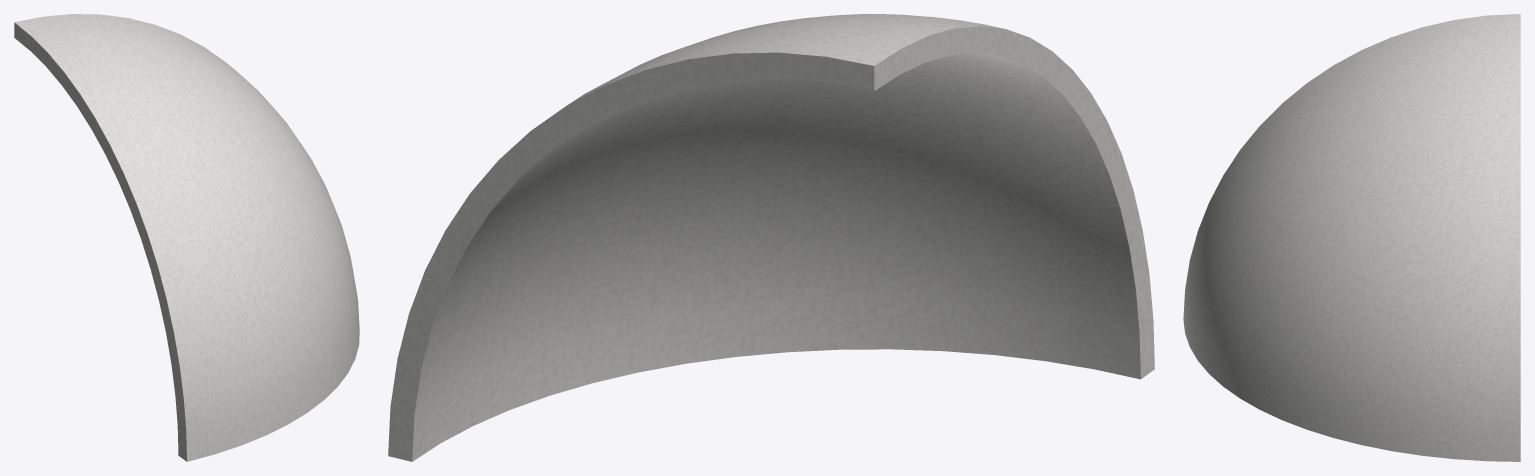
Rendered from Roof_1_Corner_Rounded_LOD0.fbx.
The picture shows the model from 3 angles, left to right: view 1: azimuth 30°, elevation 25°; view 2: azimuth 150°, elevation 25°; view 3: azimuth 270°, elevation 25°; orthographic projection. The views are drawn at different scales.
Visible parts, largest first — view 1: Roof_1_Corner_Rounded_LOD0; view 2: Roof_1_Corner_Rounded_LOD0; view 3: Roof_1_Corner_Rounded_LOD0.
Part boxes in pixels (<box>): Roof_1_Corner_Rounded_LOD0: <box>14,14,359,461</box>; Roof_1_Corner_Rounded_LOD0: <box>388,14,1154,461</box>; Roof_1_Corner_Rounded_LOD0: <box>1183,14,1520,461</box>.
Size of the model in its own units: 400 by 400 by 400.
